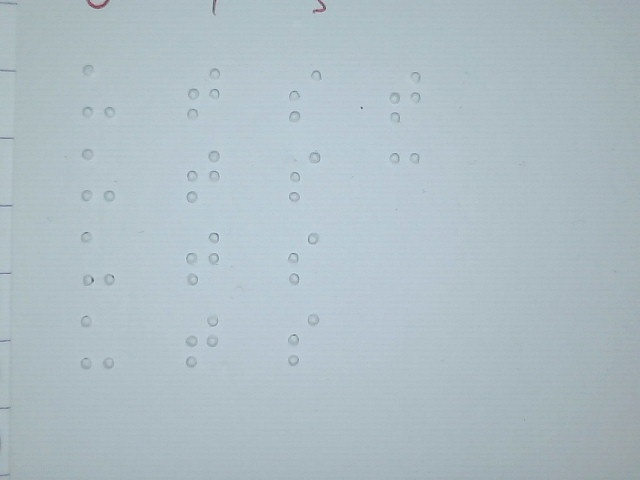S: (287, 66, 324, 124), (287, 148, 323, 203), (285, 230, 321, 285), (285, 311, 321, 366)
T: (185, 64, 222, 122), (184, 147, 221, 205), (184, 229, 221, 287), (183, 311, 220, 369)
U: (80, 62, 117, 120), (80, 145, 117, 203), (79, 228, 116, 286), (79, 313, 116, 371)
